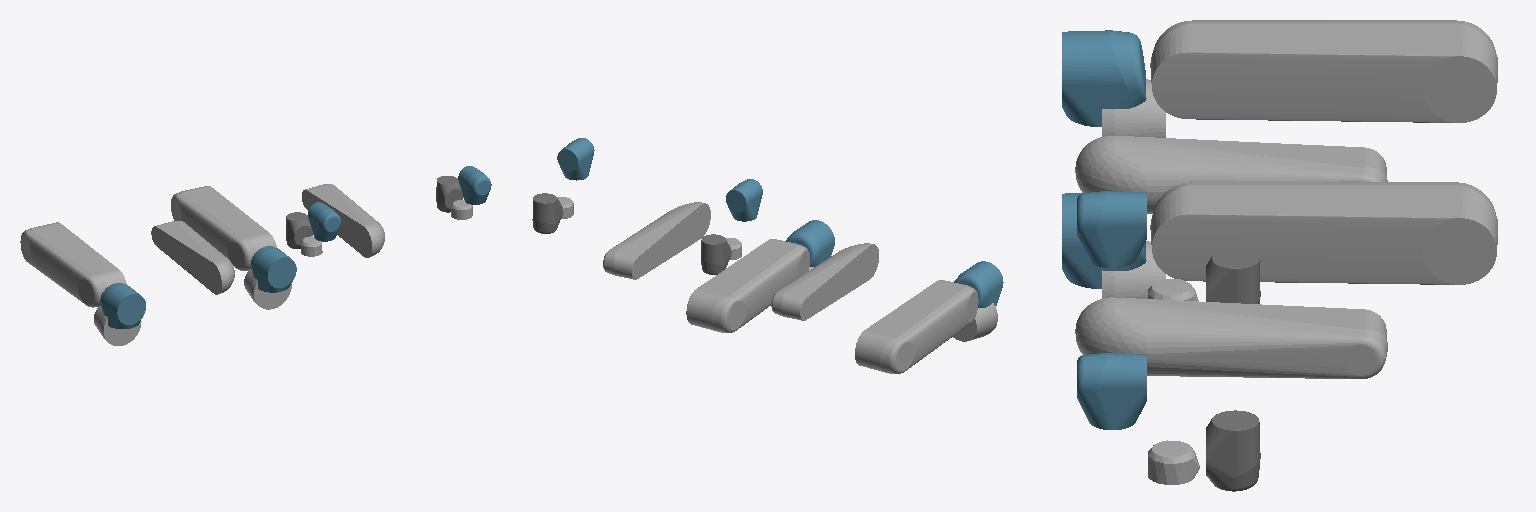
URDF robot description (dual_ur5_robot):
<?xml version="1.0" ?>
<!-- =================================================================================== -->
<!-- |    This document was autogenerated by xacro from ur_description/urdf/ur10e.xacro | -->
<!-- |    EDITING THIS FILE BY HAND IS NOT RECOMMENDED                                 | -->
<!-- =================================================================================== -->
<robot name="dual_ur5_robot">

  <!--################################################
  ########            shared base              #######
  ####################################################-->

  <link name="base_fixture_link"/>

  <!--################################################
  ########              arm 0                  #######
  ####################################################-->

  <link name="base_link_0">
    <visual>
      <geometry>
        <mesh filename="../ur5/meshes/visual/base.obj"/>
      </geometry>
      <material name="LightGrey">
        <color rgba="0.7 0.7 0.7 1.0"/>
      </material>
    </visual>
    <collision>
      <geometry>
        <mesh filename="../ur5/meshes/collision/base.stl"/>
      </geometry>
    </collision>
    <inertial>
      <mass value="4.0"/>
      <origin rpy="0 0 0" xyz="0.0 0.0 0.0"/>
      <inertia ixx="0.00443333156" ixy="0.0" ixz="0.0" iyy="0.00443333156" iyz="0.0" izz="0.0072"/>
    </inertial>
  </link>

  <joint name="shoulder_pan_joint_0" type="revolute">
    <parent link="base_link_0"/>
    <child link="shoulder_link_0"/>
    <origin rpy="0.0 0.0 0.0" xyz="0.0 0.0 0.089159"/>
    <axis xyz="0 0 1"/>
    <limit effort="150.0" lower="-3.14159265359" upper="3.14159265359" velocity="3.15"/>
    <dynamics damping="0.1" friction="0.0"/>
  </joint>
  <link name="shoulder_link_0">
    <visual>
      <geometry>
        <mesh filename="../ur5/meshes/visual/shoulder.obj"/>
      </geometry>
      <material name="UR-Blue">
        <color rgba="0.376 0.576 0.674 1.0"/>
      </material>
    </visual>
    <collision>
      <geometry>
        <mesh filename="../ur5/meshes/collision/shoulder.stl"/>
      </geometry>
    </collision>
    <inertial>
      <mass value="3.7"/>
      <origin rpy="0 0 0" xyz="0.0 0.0 0.0"/>
      <inertia ixx="0.010267495893" ixy="0.0" ixz="0.0" iyy="0.010267495893" iyz="0.0" izz="0.00666"/>
    </inertial>
  </link>
  <joint name="shoulder_lift_joint_0" type="revolute">
    <parent link="shoulder_link_0"/>
    <child link="upper_arm_link_0"/>
    <origin rpy="0.0 1.57079632679 0.0" xyz="0.0 0.13585 0.0"/>
    <axis xyz="0 1 0"/>
    <limit effort="150.0" lower="-3.14159265359" upper="3.14159265359" velocity="3.15"/>
    <dynamics damping="0.1" friction="0.0"/>
  </joint>
  <link name="upper_arm_link_0">
    <visual>
      <geometry>
        <mesh filename="../ur5/meshes/visual/upperarm.obj"/>
      </geometry>
      <material name="LightGrey">
        <color rgba="0.7 0.7 0.7 1.0"/>
      </material>
    </visual>
    <collision>
      <geometry>
        <mesh filename="../ur5/meshes/collision/upperarm.stl"/>
      </geometry>
    </collision>
    <inertial>
      <mass value="8.393"/>
      <origin rpy="0 0 0" xyz="0.0 0.0 0.28"/>
      <inertia ixx="0.22689067591" ixy="0.0" ixz="0.0" iyy="0.22689067591" iyz="0.0" izz="0.0151074"/>
    </inertial>
  </link>
  <joint name="elbow_joint_0" type="revolute">
    <parent link="upper_arm_link_0"/>
    <child link="forearm_link_0"/>
    <origin rpy="0.0 0.0 0.0" xyz="0.0 -0.1197 0.425"/>
    <axis xyz="0 1 0"/>
    <limit effort="150.0" lower="-3.14159265359" upper="3.14159265359" velocity="3.15"/>
    <dynamics damping="0.1" friction="0.0"/>
  </joint>
  <link name="forearm_link_0">
    <visual>
      <geometry>
        <mesh filename="../ur5/meshes/visual/forearm.obj"/>
      </geometry>
      <material name="LightGrey">
        <color rgba="0.7 0.7 0.7 1.0"/>
      </material>
    </visual>
    <collision>
      <geometry>
        <mesh filename="../ur5/meshes/collision/forearm.stl"/>
      </geometry>
    </collision>
    <inertial>
      <mass value="2.275"/>
      <origin rpy="0 0 0" xyz="0.0 0.0 0.25"/>
      <inertia ixx="0.049443313556" ixy="0.0" ixz="0.0" iyy="0.049443313556" iyz="0.0" izz="0.004095"/>
    </inertial>
  </link>
  <joint name="wrist_1_joint_0" type="revolute">
    <parent link="forearm_link_0"/>
    <child link="wrist_1_link_0"/>
    <origin rpy="0.0 1.57079632679 0.0" xyz="0.0 0.0 0.39225"/>
    <axis xyz="0 1 0"/>
    <limit effort="28.0" lower="-3.14159265359" upper="3.14159265359" velocity="3.2"/>
    <dynamics damping="0.1" friction="0.0"/>
  </joint>
  <link name="wrist_1_link_0">
    <visual>
      <geometry>
        <mesh filename="../ur5/meshes/visual/wrist1.obj"/>
      </geometry>
      <material name="UR-Blue">
        <color rgba="0.376 0.576 0.674 1.0"/>
      </material>
    </visual>
    <collision>
      <geometry>
        <mesh filename="../ur5/meshes/collision/wrist1.stl"/>
      </geometry>
    </collision>
    <inertial>
      <mass value="1.219"/>
      <origin rpy="0 0 0" xyz="0.0 0.0 0.0"/>
      <inertia ixx="0.111172755531" ixy="0.0" ixz="0.0" iyy="0.111172755531" iyz="0.0" izz="0.21942"/>
    </inertial>
  </link>
  <joint name="wrist_2_joint_0" type="revolute">
    <parent link="wrist_1_link_0"/>
    <child link="wrist_2_link_0"/>
    <origin rpy="0.0 0.0 0.0" xyz="0.0 0.093 0.0"/>
    <axis xyz="0 0 1"/>
    <limit effort="28.0" lower="-3.14159265359" upper="3.14159265359" velocity="3.2"/>
    <dynamics damping="0.1" friction="0.0"/>
  </joint>
  <link name="wrist_2_link_0">
    <visual>
      <geometry>
        <mesh filename="../ur5/meshes/visual/wrist2.obj"/>
      </geometry>
      <material name="DarkGray">
        <color rgba="0.5 0.5 0.5 1.0"/>
      </material>
    </visual>
    <collision>
      <geometry>
        <mesh filename="../ur5/meshes/collision/wrist2.stl"/>
      </geometry>
    </collision>
    <inertial>
      <mass value="1.219"/>
      <origin rpy="0 0 0" xyz="0.0 0.0 0.0"/>
      <inertia ixx="0.111172755531" ixy="0.0" ixz="0.0" iyy="0.111172755531" iyz="0.0" izz="0.21942"/>
    </inertial>
  </link>
  <joint name="wrist_3_joint_0" type="revolute">
    <parent link="wrist_2_link_0"/>
    <child link="wrist_3_link_0"/>
    <origin rpy="0.0 0.0 0.0" xyz="0.0 0.0 0.09465"/>
    <axis xyz="0 1 0"/>
    <limit effort="28.0" lower="-3.14159265359" upper="3.14159265359" velocity="3.2"/>
    <dynamics damping="0.1" friction="0.0"/>
  </joint>
  <link name="wrist_3_link_0">
    <visual>
      <geometry>
        <mesh filename="../ur5/meshes/visual/wrist3.obj"/>
      </geometry>
      <material name="LightGrey">
        <color rgba="0.7 0.7 0.7 1.0"/>
      </material>
    </visual>
    <collision>
      <geometry>
        <mesh filename="../ur5/meshes/collision/wrist3.stl"/>
      </geometry>
    </collision>
    <inertial>
      <mass value="0.1879"/>
      <origin rpy="0 0 0" xyz="0.0 0.0 0.0"/>
      <inertia ixx="0.0171364731454" ixy="0.0" ixz="0.0" iyy="0.0171364731454" iyz="0.0" izz="0.033822"/>
    </inertial>
  </link>
  <joint name="ee_fixed_joint_0" type="fixed">
    <parent link="wrist_3_link_0"/>
    <child link="ee_link_0"/>
    <origin rpy="0.0 0.0 1.57079632679" xyz="0.0 0.0823 0.0"/>
    <dynamics damping="0.1" friction="0.0"/>
  </joint>
  <link name="ee_link_0">
    <collision>
      <geometry>
        <box size="0.01 0.01 0.01"/>
      </geometry>
      <origin rpy="0 0 0" xyz="-0.01 0 0"/>
    </collision>
  </link>


  <!--################################################
  ########              arm 1                  #######
  ####################################################-->

  <link name="base_link_1">
    <visual>
      <geometry>
        <mesh filename="../ur5/meshes/visual/base.obj"/>
      </geometry>
      <material name="LightGrey">
        <color rgba="0.7 0.7 0.7 1.0"/>
      </material>
    </visual>
    <collision>
      <geometry>
        <mesh filename="../ur5/meshes/collision/base.stl"/>
      </geometry>
    </collision>
    <inertial>
      <mass value="4.0"/>
      <origin rpy="0 0 0" xyz="0.0 0.0 0.0"/>
      <inertia ixx="0.00443333156" ixy="0.0" ixz="0.0" iyy="0.00443333156" iyz="0.0" izz="0.0072"/>
    </inertial>
  </link>

  <joint name="shoulder_pan_joint_1" type="revolute">
    <parent link="base_link_1"/>
    <child link="shoulder_link_1"/>
    <origin rpy="0.0 0.0 0.0" xyz="0.0 0.0 0.089159"/>
    <axis xyz="0 0 1"/>
    <limit effort="150.0" lower="-3.14159265359" upper="3.14159265359" velocity="3.15"/>
    <dynamics damping="0.1" friction="0.0"/>
  </joint>
  <link name="shoulder_link_1">
    <visual>
      <geometry>
        <mesh filename="../ur5/meshes/visual/shoulder.obj"/>
      </geometry>
      <material name="UR-Blue">
        <color rgba="0.376 0.576 0.674 1.0"/>
      </material>
    </visual>
    <collision>
      <geometry>
        <mesh filename="../ur5/meshes/collision/shoulder.stl"/>
      </geometry>
    </collision>
    <inertial>
      <mass value="3.7"/>
      <origin rpy="0 0 0" xyz="0.0 0.0 0.0"/>
      <inertia ixx="0.010267495893" ixy="0.0" ixz="0.0" iyy="0.010267495893" iyz="0.0" izz="0.00666"/>
    </inertial>
  </link>
  <joint name="shoulder_lift_joint_1" type="revolute">
    <parent link="shoulder_link_1"/>
    <child link="upper_arm_link_1"/>
    <origin rpy="0.0 1.57079632679 0.0" xyz="0.0 0.13585 0.0"/>
    <axis xyz="0 1 0"/>
    <limit effort="150.0" lower="-3.14159265359" upper="3.14159265359" velocity="3.15"/>
    <dynamics damping="0.1" friction="0.0"/>
  </joint>
  <link name="upper_arm_link_1">
    <visual>
      <geometry>
        <mesh filename="../ur5/meshes/visual/upperarm.obj"/>
      </geometry>
      <material name="LightGrey">
        <color rgba="0.7 0.7 0.7 1.0"/>
      </material>
    </visual>
    <collision>
      <geometry>
        <mesh filename="../ur5/meshes/collision/upperarm.stl"/>
      </geometry>
    </collision>
    <inertial>
      <mass value="8.393"/>
      <origin rpy="0 0 0" xyz="0.0 0.0 0.28"/>
      <inertia ixx="0.22689067591" ixy="0.0" ixz="0.0" iyy="0.22689067591" iyz="0.0" izz="0.0151074"/>
    </inertial>
  </link>
  <joint name="elbow_joint_1" type="revolute">
    <parent link="upper_arm_link_1"/>
    <child link="forearm_link_1"/>
    <origin rpy="0.0 0.0 0.0" xyz="0.0 -0.1197 0.425"/>
    <axis xyz="0 1 0"/>
    <limit effort="150.0" lower="-3.14159265359" upper="3.14159265359" velocity="3.15"/>
    <dynamics damping="0.1" friction="0.0"/>
  </joint>
  <link name="forearm_link_1">
    <visual>
      <geometry>
        <mesh filename="../ur5/meshes/visual/forearm.obj"/>
      </geometry>
      <material name="LightGrey">
        <color rgba="0.7 0.7 0.7 1.0"/>
      </material>
    </visual>
    <collision>
      <geometry>
        <mesh filename="../ur5/meshes/collision/forearm.stl"/>
      </geometry>
    </collision>
    <inertial>
      <mass value="2.275"/>
      <origin rpy="0 0 0" xyz="0.0 0.0 0.25"/>
      <inertia ixx="0.049443313556" ixy="0.0" ixz="0.0" iyy="0.049443313556" iyz="0.0" izz="0.004095"/>
    </inertial>
  </link>
  <joint name="wrist_1_joint_1" type="revolute">
    <parent link="forearm_link_1"/>
    <child link="wrist_1_link_1"/>
    <origin rpy="0.0 1.57079632679 0.0" xyz="0.0 0.0 0.39225"/>
    <axis xyz="0 1 0"/>
    <limit effort="28.0" lower="-3.14159265359" upper="3.14159265359" velocity="3.2"/>
    <dynamics damping="0.1" friction="0.0"/>
  </joint>
  <link name="wrist_1_link_1">
    <visual>
      <geometry>
        <mesh filename="../ur5/meshes/visual/wrist1.obj"/>
      </geometry>
      <material name="UR-Blue">
        <color rgba="0.376 0.576 0.674 1.0"/>
      </material>
    </visual>
    <collision>
      <geometry>
        <mesh filename="../ur5/meshes/collision/wrist1.stl"/>
      </geometry>
    </collision>
    <inertial>
      <mass value="1.219"/>
      <origin rpy="0 0 0" xyz="0.0 0.0 0.0"/>
      <inertia ixx="0.111172755531" ixy="0.0" ixz="0.0" iyy="0.111172755531" iyz="0.0" izz="0.21942"/>
    </inertial>
  </link>
  <joint name="wrist_2_joint_1" type="revolute">
    <parent link="wrist_1_link_1"/>
    <child link="wrist_2_link_1"/>
    <origin rpy="0.0 0.0 0.0" xyz="0.0 0.093 0.0"/>
    <axis xyz="0 0 1"/>
    <limit effort="28.0" lower="-3.14159265359" upper="3.14159265359" velocity="3.2"/>
    <dynamics damping="0.1" friction="0.0"/>
  </joint>
  <link name="wrist_2_link_1">
    <visual>
      <geometry>
        <mesh filename="../ur5/meshes/visual/wrist2.obj"/>
      </geometry>
      <material name="DarkGray">
        <color rgba="0.5 0.5 0.5 1.0"/>
      </material>
    </visual>
    <collision>
      <geometry>
        <mesh filename="../ur5/meshes/collision/wrist2.stl"/>
      </geometry>
    </collision>
    <inertial>
      <mass value="1.219"/>
      <origin rpy="0 0 0" xyz="0.0 0.0 0.0"/>
      <inertia ixx="0.111172755531" ixy="0.0" ixz="0.0" iyy="0.111172755531" iyz="0.0" izz="0.21942"/>
    </inertial>
  </link>
  <joint name="wrist_3_joint_1" type="revolute">
    <parent link="wrist_2_link_1"/>
    <child link="wrist_3_link_1"/>
    <origin rpy="0.0 0.0 0.0" xyz="0.0 0.0 0.09465"/>
    <axis xyz="0 1 0"/>
    <limit effort="28.0" lower="-3.14159265359" upper="3.14159265359" velocity="3.2"/>
    <dynamics damping="0.1" friction="0.0"/>
  </joint>
  <link name="wrist_3_link_1">
    <visual>
      <geometry>
        <mesh filename="../ur5/meshes/visual/wrist3.obj"/>
      </geometry>
      <material name="LightGrey">
        <color rgba="0.7 0.7 0.7 1.0"/>
      </material>
    </visual>
    <collision>
      <geometry>
        <mesh filename="../ur5/meshes/collision/wrist3.stl"/>
      </geometry>
    </collision>
    <inertial>
      <mass value="0.1879"/>
      <origin rpy="0 0 0" xyz="0.0 0.0 0.0"/>
      <inertia ixx="0.0171364731454" ixy="0.0" ixz="0.0" iyy="0.0171364731454" iyz="0.0" izz="0.033822"/>
    </inertial>
  </link>
  <joint name="ee_fixed_joint_1" type="fixed">
    <parent link="wrist_3_link_1"/>
    <child link="ee_link_1"/>
    <origin rpy="0.0 0.0 1.57079632679" xyz="0.0 0.0823 0.0"/>
    <dynamics damping="0.1" friction="0.0"/>
  </joint>
  <link name="ee_link_1">
    <collision>
      <geometry>
        <box size="0.01 0.01 0.01"/>
      </geometry>
      <origin rpy="0 0 0" xyz="-0.01 0 0"/>
    </collision>
  </link>

  <!--################################################
  ########         shared base joints          #######
  ####################################################-->

  <joint name="base_link_joint_0" type="fixed">
    <parent link="base_fixture_link"/>
    <child link="base_link_0"/>
    <origin rpy="0 0 0" xyz="0.3 0.75 0"/>
  </joint>


  <!-- joints: main serial chain -->
  <joint name="base_link_joint_1" type="fixed">
    <parent link="base_fixture_link"/>
    <child link="base_link_1"/>
    <origin rpy="0 0 0.0" xyz="-0.3 0.75 0"/>
  </joint>

</robot>

--- Render facts (derived) ---
The picture shows the robot from 3 angles, left to right: view 1: azimuth 30°, elevation 25°; view 2: azimuth 150°, elevation 25°; view 3: azimuth 270°, elevation 25°; orthographic projection.
Robot: dual_ur5_robot — 17 links, 16 joints (12 revolute, 4 fixed); root link base_fixture_link; default pose: every joint at zero.
Visible links, largest first — view 1: upper_arm_link_1, upper_arm_link_0, forearm_link_1, forearm_link_0, shoulder_link_0, shoulder_link_1, wrist_1_link_1, wrist_1_link_0, base_link_0, base_link_1, wrist_2_link_1, wrist_2_link_0; view 2: upper_arm_link_1, upper_arm_link_0, forearm_link_0, forearm_link_1, shoulder_link_1, shoulder_link_0, wrist_1_link_1, wrist_1_link_0, wrist_2_link_0, wrist_2_link_1, base_link_1; view 3: upper_arm_link_1, upper_arm_link_0, forearm_link_0, forearm_link_1, shoulder_link_1, wrist_1_link_0, wrist_1_link_1, wrist_2_link_0, wrist_2_link_1, shoulder_link_0, base_link_1, wrist_3_link_0 (+2 smaller).
Link boxes in pixels (<box>): upper_arm_link_1: <box>20,222,126,307</box>; upper_arm_link_0: <box>171,186,276,270</box>; forearm_link_1: <box>151,221,234,294</box>; forearm_link_0: <box>302,184,384,257</box>; shoulder_link_0: <box>250,246,296,292</box>; shoulder_link_1: <box>100,283,145,328</box>; wrist_1_link_1: <box>308,202,340,241</box>; wrist_1_link_0: <box>458,166,491,204</box>; base_link_0: <box>244,269,291,309</box>; base_link_1: <box>94,306,141,345</box>; wrist_2_link_1: <box>286,212,312,248</box>; wrist_2_link_0: <box>436,176,463,212</box>; upper_arm_link_1: <box>855,280,978,373</box>; upper_arm_link_0: <box>686,239,809,332</box>; forearm_link_0: <box>603,202,710,279</box>; forearm_link_1: <box>771,243,878,320</box>; shoulder_link_1: <box>954,261,1003,307</box>; shoulder_link_0: <box>786,220,834,266</box>; wrist_1_link_1: <box>726,179,762,221</box>; wrist_1_link_0: <box>557,138,594,180</box>; wrist_2_link_0: <box>532,193,562,233</box>; wrist_2_link_1: <box>701,234,731,274</box>; base_link_1: <box>953,303,997,341</box>; upper_arm_link_1: <box>1150,20,1497,122</box>; upper_arm_link_0: <box>1150,182,1497,284</box>; forearm_link_0: <box>1075,297,1387,378</box>; forearm_link_1: <box>1075,136,1387,213</box>; shoulder_link_1: <box>1062,30,1146,126</box>; wrist_1_link_0: <box>1077,353,1146,429</box>; wrist_1_link_1: <box>1077,191,1146,267</box>; wrist_2_link_0: <box>1206,410,1260,491</box>; wrist_2_link_1: <box>1206,249,1260,303</box>; shoulder_link_0: <box>1062,193,1146,288</box>; base_link_1: <box>1102,79,1165,137</box>; wrist_3_link_0: <box>1148,440,1199,484</box>.
Bounding box of the posed robot: 1.53 × 0.6843 × 0.3303 m (x, y, z).
Meshes: 7 distinct files referenced, 14 mesh visuals loaded (7 OBJ).